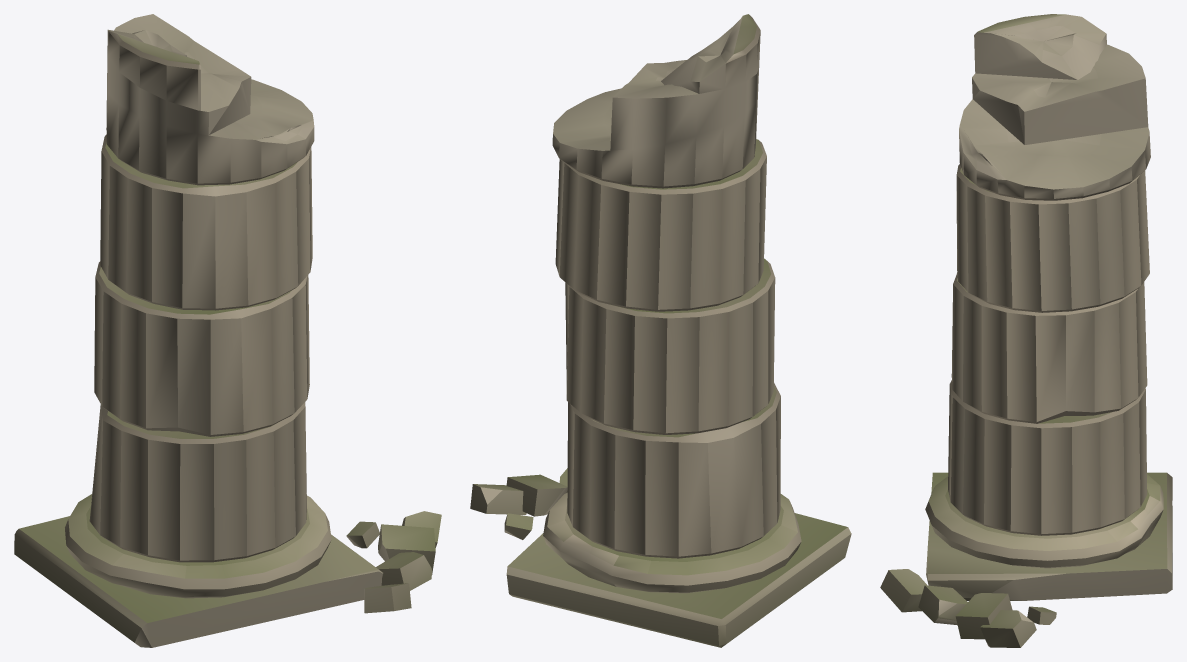
Rendered from column_broken_mid.glb.
3 renders of one model, left to right at view 1: azimuth 30°, elevation 25°; view 2: azimuth 150°, elevation 25°; view 3: azimuth 270°, elevation 25°, orthographic. The views are drawn at different scales.
Parts seen in each view (by area): view 1: column_broken_mid; view 2: column_broken_mid; view 3: column_broken_mid.
Boxes of the visible parts, x1=… form: column_broken_mid: x1=14, y1=14, x2=441, y2=647; column_broken_mid: x1=470, y1=14, x2=851, y2=647; column_broken_mid: x1=880, y1=14, x2=1172, y2=647.
Size of the model in its own units: 7.24 by 11.38 by 5.87.
